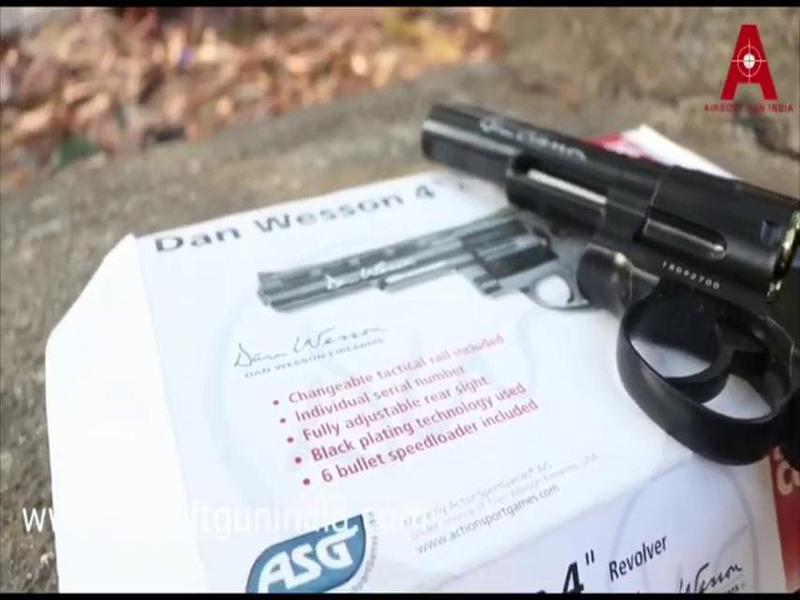Revolver: (402, 66, 800, 488)
